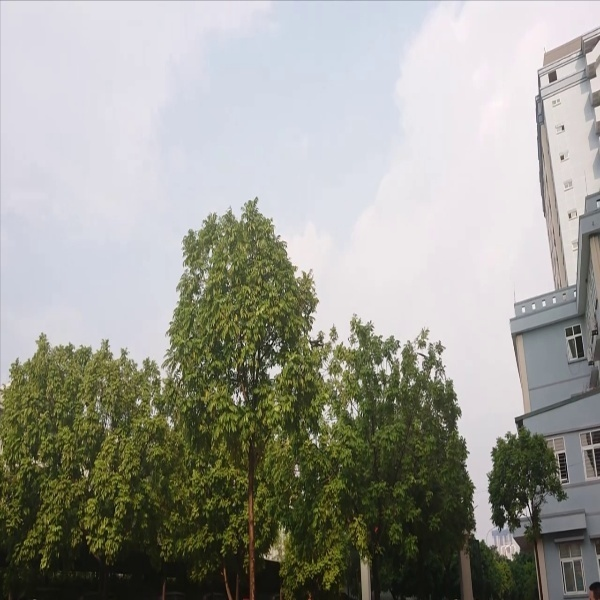drone: (303, 329, 329, 353)
